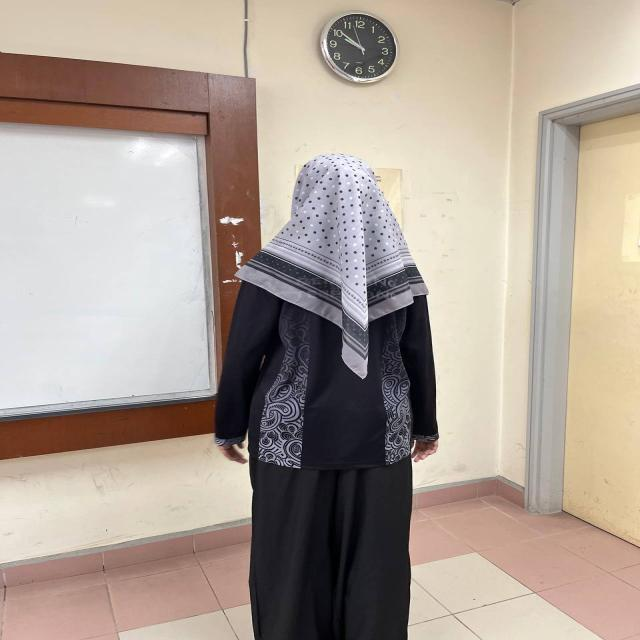person_without_labcoat: (215, 154, 438, 640)
